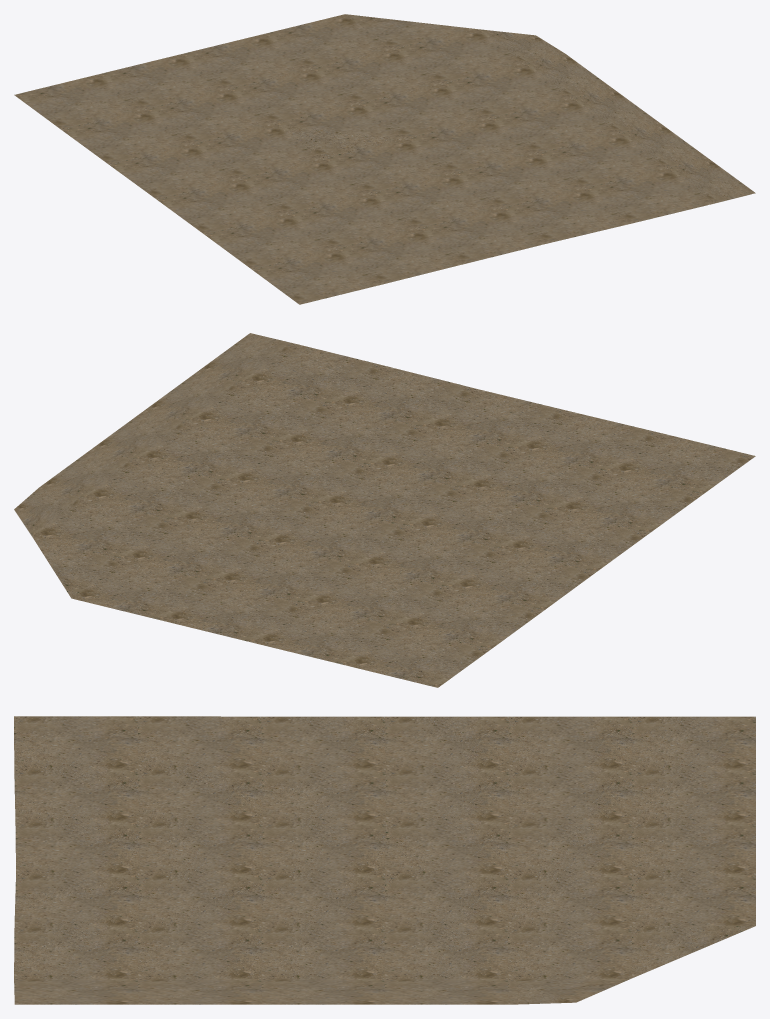
Rendered from ground_3.fbx.
3 renders of one model, top to bottom at view 1: azimuth 30°, elevation 25°; view 2: azimuth 150°, elevation 25°; view 3: azimuth 270°, elevation 25°, orthographic. The views are drawn at different scales.
Parts seen in each view (by area): view 1: ground_3; view 2: ground_3; view 3: ground_3.
Boxes of the visible parts, x1,y1,x2,y2 form: ground_3: [14, 14, 755, 304]; ground_3: [14, 333, 755, 687]; ground_3: [14, 716, 755, 1004].
Size of the model in its own units: 4401 by 2.47e-16 by 4782.
